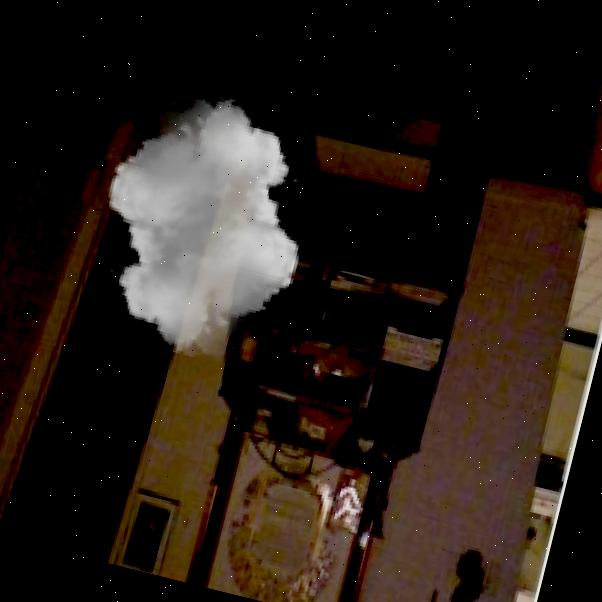smoke: (66, 73, 340, 377)
